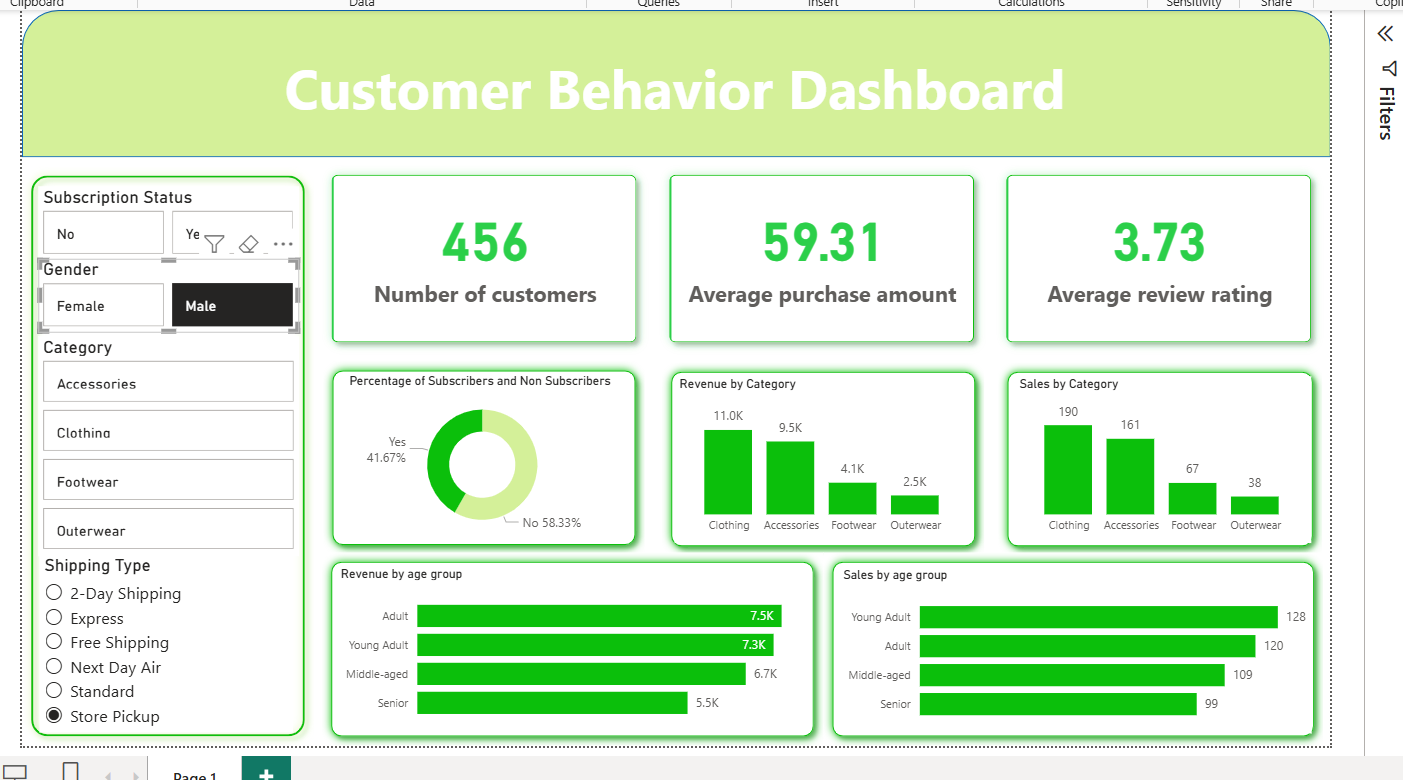

The dashboard page shown, as its layout file describes it:
{"tool":"powerbi","page":{"name":"Page 1","canvas":[1280,720],"ordinal":0},"visuals":[{"type":"cardVisual","fields":{"Data":["public customer.Number of customers","public customer.Average purchase amount","public customer.Average review rating"]},"box":[286,144.2,994.2,198.8],"z":0},{"type":"shape","box":[0,0,1280.2,144.2],"z":1000},{"type":"textbox","box":[141.9,33.7,994.2,81.4],"z":2000},{"type":"shape","box":[294.4,343.3,314.4,188.9],"z":3000},{"type":"shape","box":[625.6,344.4,315.6,188.9],"z":4000},{"type":"shape","box":[955.6,344.4,316.7,188.9],"z":5000},{"type":"donutChart","title":"Percentage of Subscribers and Non Subscribers","fields":{"Category":["public customer.subscription_status"],"Y":["CountNonNull(public customer.customer_id)"]},"box":[316,356,270,164.7],"z":6000},{"type":"clusteredColumnChart","title":"Revenue by Category","fields":{"Category":["public customer.category"],"Y":["Sum(public customer.purchase_amount)"]},"box":[638.9,357.8,290,163.3],"z":7000},{"type":"clusteredColumnChart","title":"Sales by Category","fields":{"Category":["public customer.category"],"Y":["CountNonNull(public customer.customer_id)"]},"box":[971.1,357.8,290,163.3],"z":8000},{"type":"shape","box":[0,153.3,285.6,566.7],"z":9000},{"type":"advancedSlicerVisual","title":"Subscription Status","fields":{"Values":["public customer.subscription_status"]},"box":[16.2,172.5,255,71.2],"z":10000},{"type":"advancedSlicerVisual","title":"Gender","fields":{"Values":["public customer.gender"]},"box":[16.2,243.8,255,71.2],"z":11000},{"type":"advancedSlicerVisual","title":"Category","fields":{"Values":["public customer.category"]},"box":[16.2,318.8,255,215],"z":12000},{"type":"listSlicer","title":"Shipping Type","fields":{"Values":["public customer.shipping_type"]},"box":[16.7,533.3,247.8,173.3],"z":13000},{"type":"shape","box":[784,531,489,189],"z":14000},{"type":"shape","box":[294,531,490,189],"z":15000},{"type":"barChart","title":"Revenue by age group","fields":{"Category":["public customer.age_group"],"Y":["Sum(public customer.purchase_amount)"]},"box":[307,544,463,162],"z":17000},{"type":"barChart","title":"Sales by age group","fields":{"Category":["public customer.age_group"],"Y":["CountNonNull(public customer.customer_id)"]},"box":[798,545,463,162],"z":17001}]}

Visuals, with their boxes in screenshot pixels (x1, y1, x2, y2):
cardVisual - public customer.Number of customers x public customer.Average purchase amount: {"left": 305, "top": 152, "right": 1327, "bottom": 356}
shape: {"left": 11, "top": 4, "right": 1327, "bottom": 152}
textbox: {"left": 157, "top": 38, "right": 1179, "bottom": 122}
shape: {"left": 314, "top": 357, "right": 637, "bottom": 551}
shape: {"left": 654, "top": 358, "right": 979, "bottom": 552}
shape: {"left": 993, "top": 358, "right": 1319, "bottom": 552}
"Percentage of Subscribers and Non Subscribers" donutChart: {"left": 336, "top": 370, "right": 613, "bottom": 539}
"Revenue by Category" clusteredColumnChart: {"left": 668, "top": 372, "right": 966, "bottom": 539}
"Sales by Category" clusteredColumnChart: {"left": 1009, "top": 372, "right": 1308, "bottom": 539}
shape: {"left": 11, "top": 161, "right": 305, "bottom": 744}
"Subscription Status" advancedSlicerVisual: {"left": 28, "top": 181, "right": 290, "bottom": 254}
"Gender" advancedSlicerVisual: {"left": 28, "top": 254, "right": 290, "bottom": 328}
"Category" advancedSlicerVisual: {"left": 28, "top": 331, "right": 290, "bottom": 552}
"Shipping Type" listSlicer: {"left": 28, "top": 552, "right": 283, "bottom": 730}
shape: {"left": 817, "top": 550, "right": 1320, "bottom": 744}
shape: {"left": 313, "top": 550, "right": 817, "bottom": 744}
"Revenue by age group" barChart: {"left": 327, "top": 563, "right": 803, "bottom": 730}
"Sales by age group" barChart: {"left": 831, "top": 564, "right": 1307, "bottom": 731}
